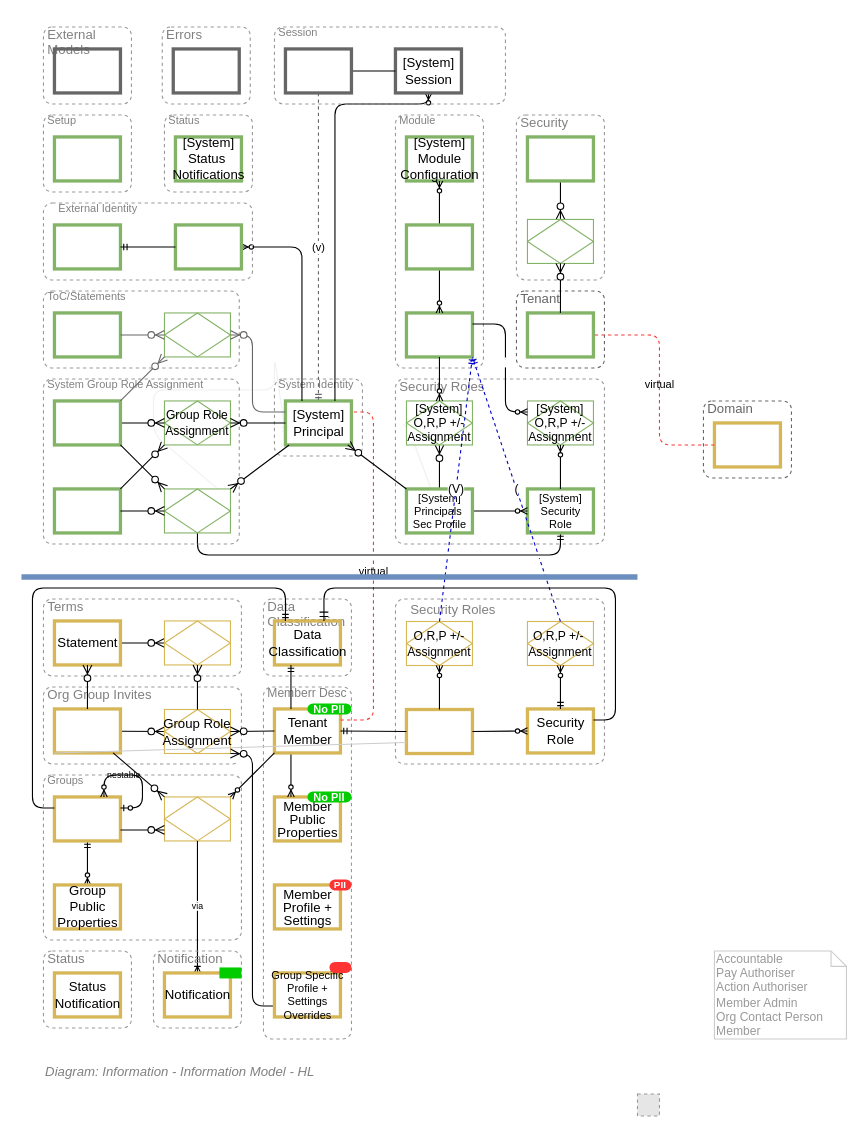
The diagram is 866 pixels wide and 1135 high, and some of its shapes have lost their labels. Grey dashed boxes stand in for pictures. Each missing label, with the centre of its shape:
[System] Country Assignment: (559,240)
[System] Country List: (560,158)
[System] Diagnostic Record: (87,70)
[System] Domain: (747,444)
[System] Exception Record: (205,70)
[System] External Identity: (208,246)
[System] Group: (87,510)
[System] Group Role: (87,422)
[System] Group Role Invitation: (196,510)
[System] IdP: (87,246)
[System] Module: (439,246)
[System] Module Obj, Obligation, Permission Definition: (439,334)
[System] Session Operation: (318,70)
[System] Statement: (87,334)
[System] Statement Acceptance: (196,334)
[System] SystemStep Record: (87,158)
[System] Tenant: (560,334)
Group: (87,818)
Group Role: (87,730)
Group Role Invitation: (196,818)
Member Security Profile: (439,731)
Statement Acceptance: (196,642)
